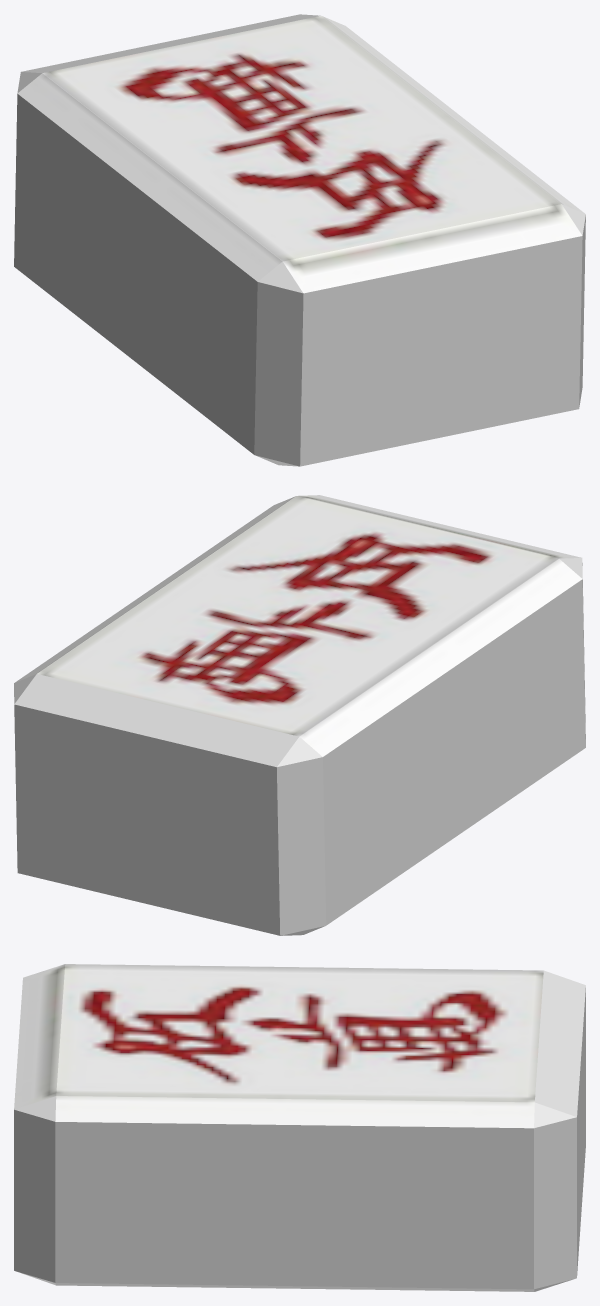
The picture shows the model from 3 angles, top to bottom: view 1: azimuth 30°, elevation 25°; view 2: azimuth 150°, elevation 25°; view 3: azimuth 270°, elevation 25°; orthographic projection. The views are drawn at different scales.
Parts seen in each view (by area): view 1: 5mr; view 2: 5mr; view 3: 5mr.
Boxes of the visible parts, x1,y1,x2,y2 form: 5mr: (14,14,585,466); 5mr: (14,495,585,935); 5mr: (14,964,585,1291).
Bounding box in the file's own units: 52.53 × 30.93 × 81.24.
